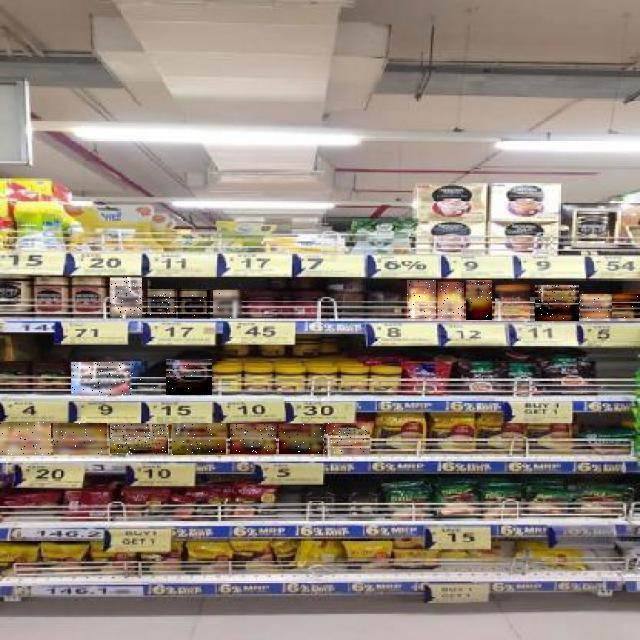Coffee: (72, 362, 134, 395), (110, 424, 168, 454), (172, 423, 226, 455), (0, 422, 51, 455), (53, 423, 107, 454), (166, 359, 212, 395), (535, 285, 579, 321), (325, 424, 371, 454), (230, 424, 276, 454), (496, 285, 534, 321), (279, 424, 323, 454), (110, 278, 142, 318), (407, 280, 436, 318), (466, 280, 492, 320), (438, 282, 464, 320), (178, 290, 210, 319), (147, 290, 177, 318), (214, 290, 244, 318), (580, 294, 612, 318), (612, 294, 640, 318), (136, 377, 166, 395)
